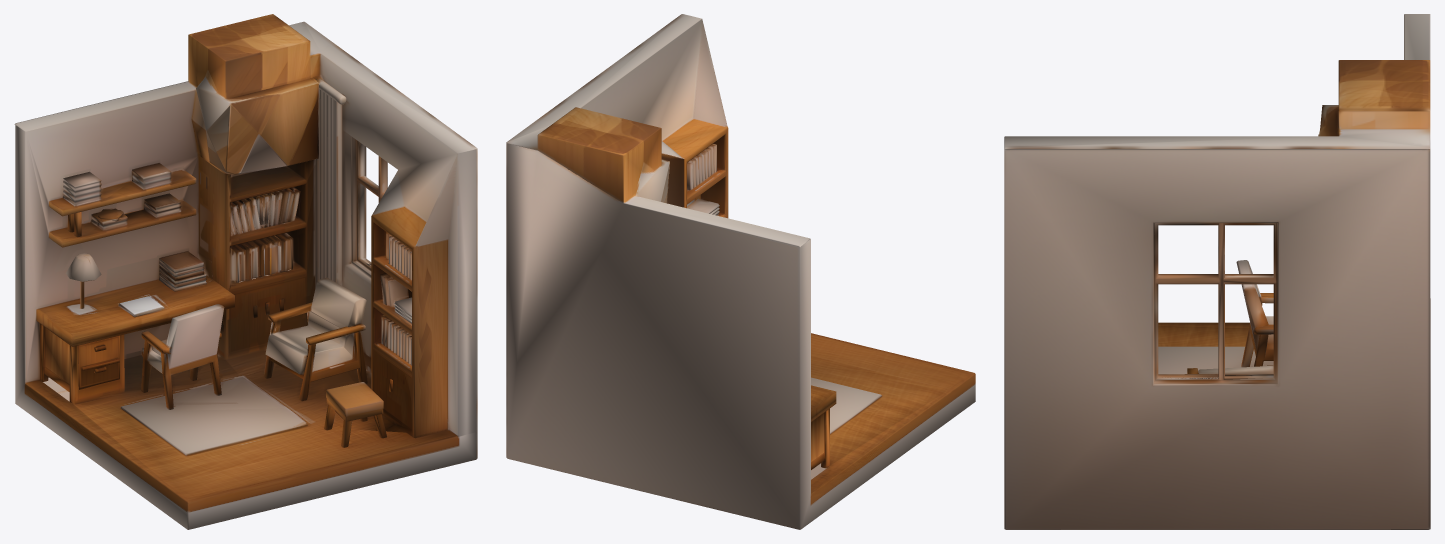
Rendered from study.glb.
3 renders of one model, left to right at view 1: azimuth 30°, elevation 25°; view 2: azimuth 150°, elevation 25°; view 3: azimuth 270°, elevation 25°, orthographic. The views are drawn at different scales.
Parts seen in each view (by area): view 1: material; view 2: material; view 3: material.
Boxes of the visible parts, bbox=[...] form: material: bbox=[14, 14, 477, 529]; material: bbox=[506, 14, 975, 529]; material: bbox=[1004, 14, 1430, 529].
Bounding box in the file's own units: 1.76 × 1.9 × 1.83.
Materials: 1 (1 with a texture image).
